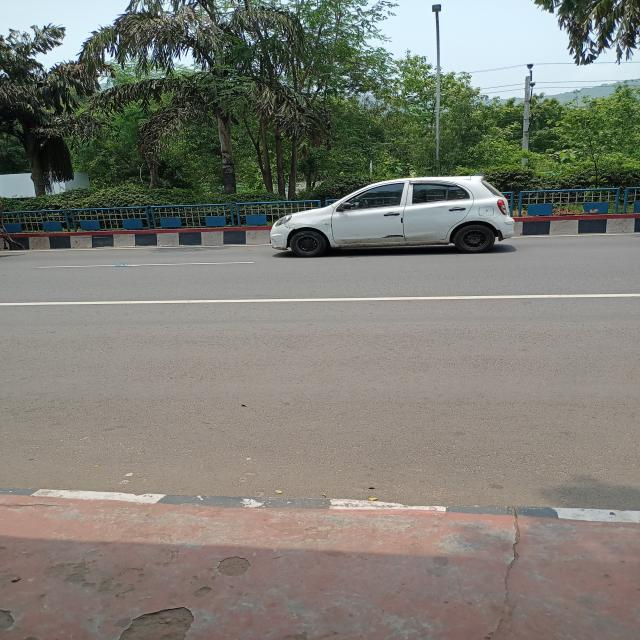car: (263, 169, 528, 265)
